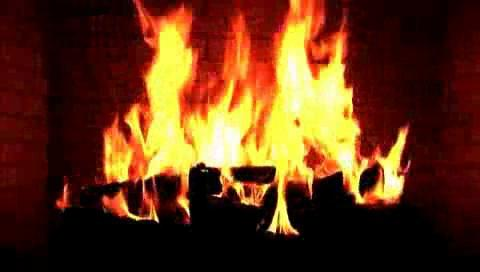fire: (95, 8, 397, 218)
